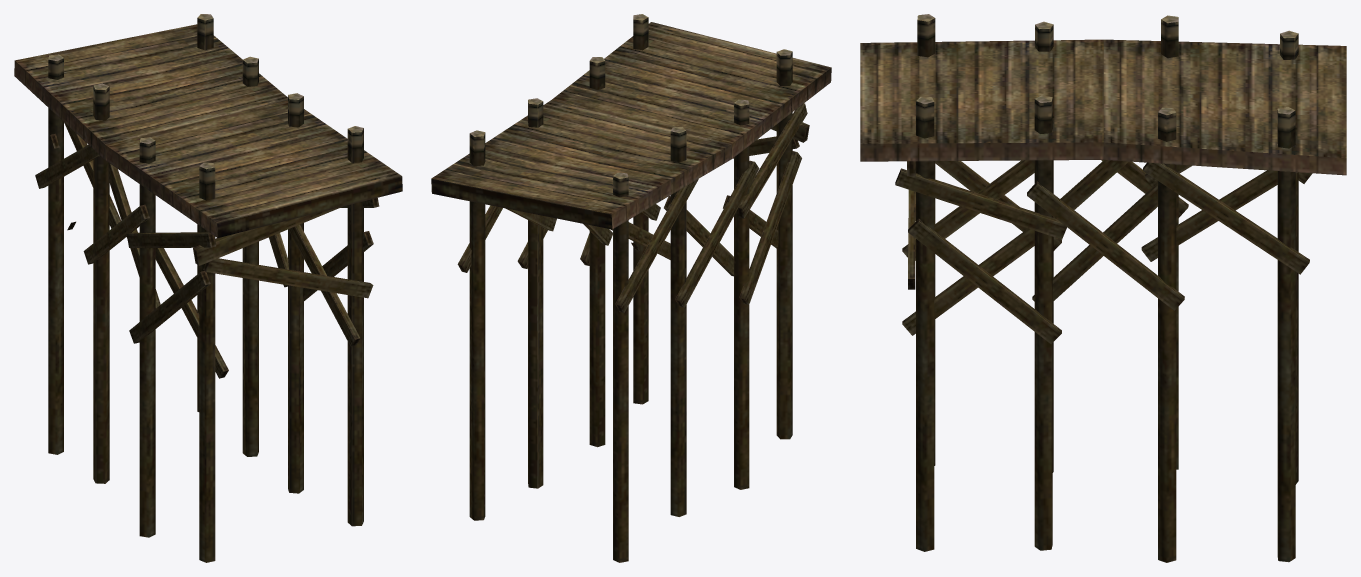
File: b_general_obj_01_2.fbx
3 views of the same model, side by side, from view 1: azimuth 30°, elevation 25°; view 2: azimuth 150°, elevation 25°; view 3: azimuth 270°, elevation 25° (orthographic). The views are drawn at different scales.
Visible parts, largest first — view 1: B_general_obj_02; view 2: B_general_obj_02; view 3: B_general_obj_02.
Boxes of the visible parts, box(x1,y1,x2,y2) form: B_general_obj_02: box(14, 14, 402, 562); B_general_obj_02: box(431, 14, 831, 562); B_general_obj_02: box(860, 14, 1346, 562).
Size of the model in its own units: 5.43 by 10.44 by 10.
